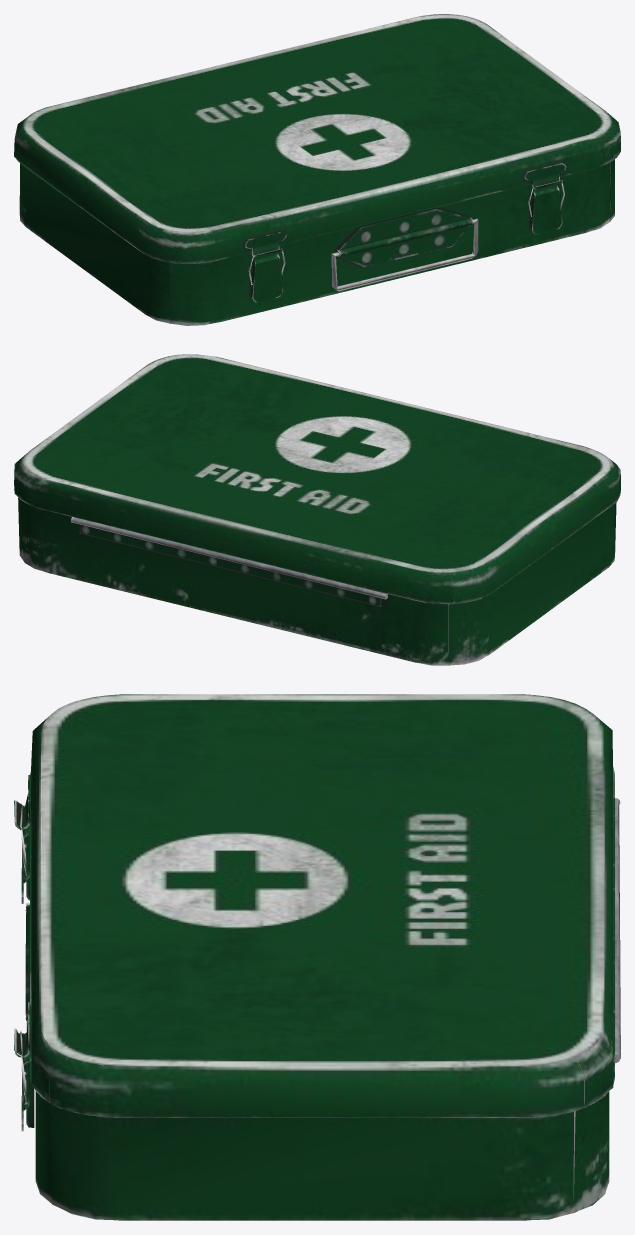
File: medical_box.glb
3 renders of one model, top to bottom at view 1: azimuth 30°, elevation 25°; view 2: azimuth 150°, elevation 25°; view 3: azimuth 270°, elevation 25°, orthographic. The views are drawn at different scales.
Parts seen in each view (by area): view 1: CC0_medical_box; view 2: CC0_medical_box; view 3: CC0_medical_box.
Part boxes in pixels (x1=…): CC0_medical_box: x1=14, y1=14, x2=620, y2=325; CC0_medical_box: x1=14, y1=354, x2=620, y2=665; CC0_medical_box: x1=14, y1=694, x2=620, y2=1220.
Size of the model in its own units: 0.6306 by 0.1168 by 0.4211.
1 material, 1 textured.
